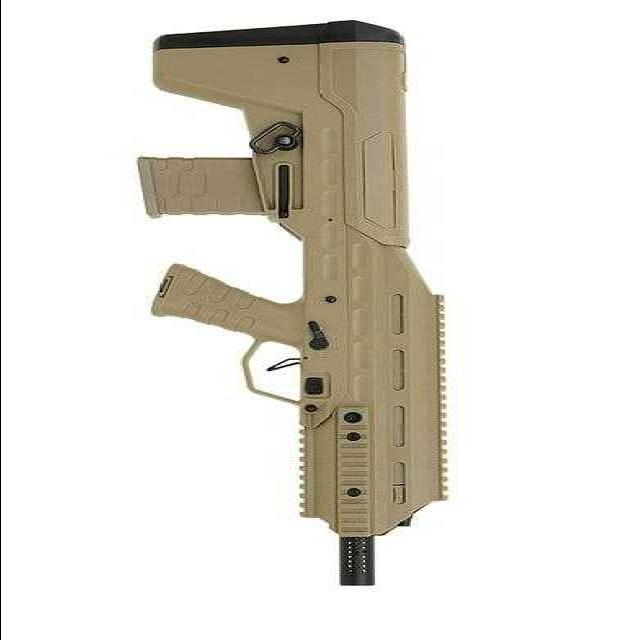heavyweapon: (98, 7, 514, 607)
